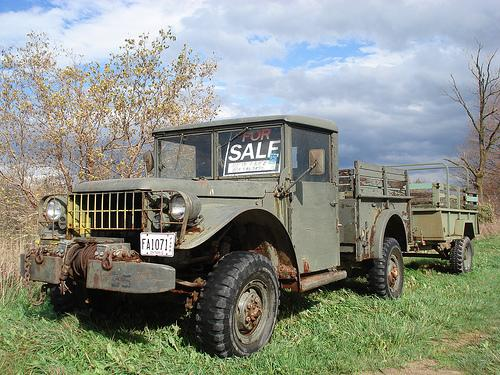truck: (21, 114, 479, 359)
